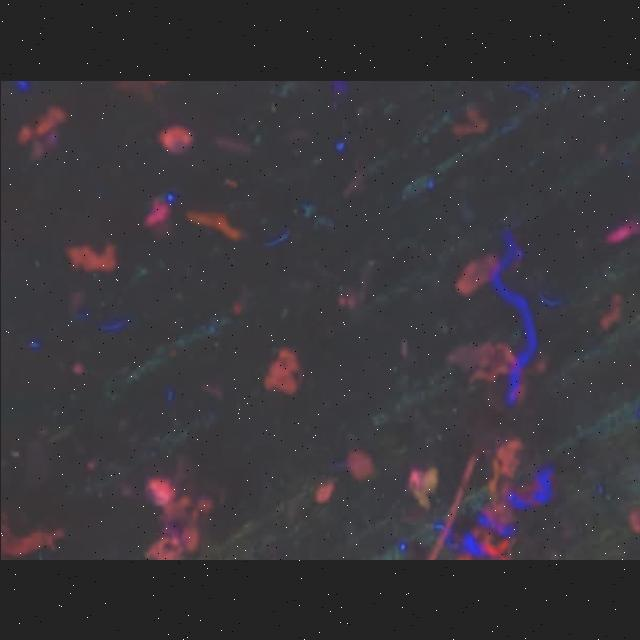Fragment: (265, 347, 301, 395)
